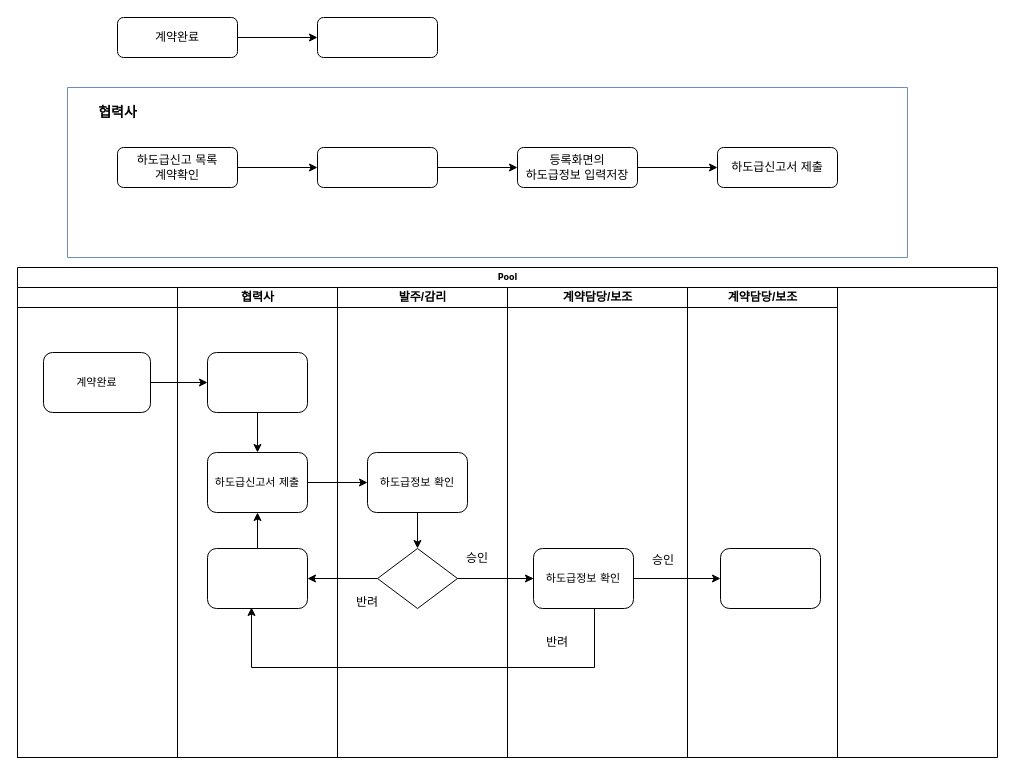
The diagram is 1015 pixels wide and 775 high, and some of its shapes have lost their labels. The centre of each missing label's shape, as x and y in pixels:
신고서 확정: the point at 770,578
정상여부: the point at 417,578
착수시 등록 클릭: the point at 377,167
하도급신고서 수정: the point at 257,578
하도급정보 저장: the point at 257,382
협력사 안내메일 - 하도급신고: the point at 377,37
